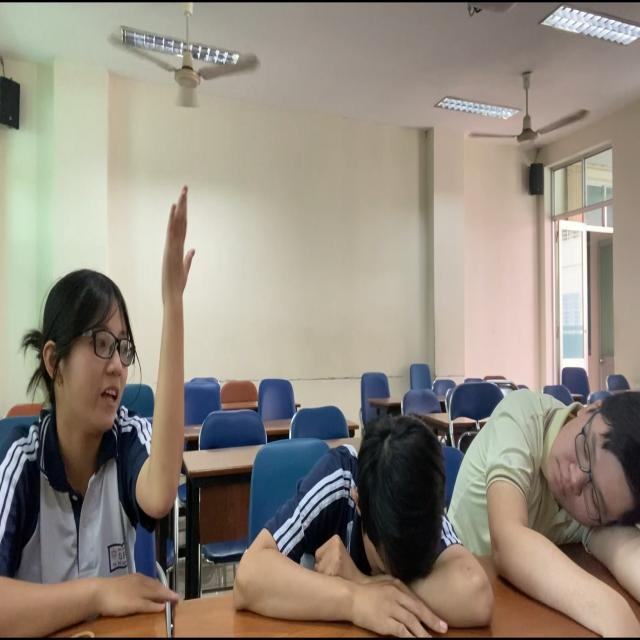raise_hand: (1, 181, 208, 640)
sleep: (248, 407, 473, 638), (460, 376, 640, 640)
